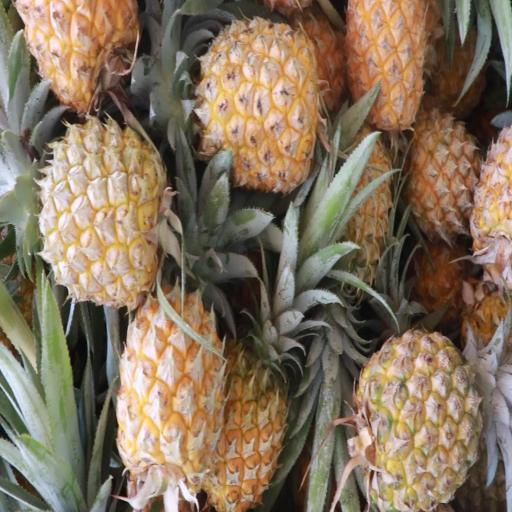------------------------------: (348, 324, 512, 512)
Pineapple - v8 v1: (111, 270, 222, 512), (196, 245, 294, 512), (27, 128, 167, 305), (179, 20, 321, 189), (341, 0, 428, 131), (402, 109, 477, 250)
